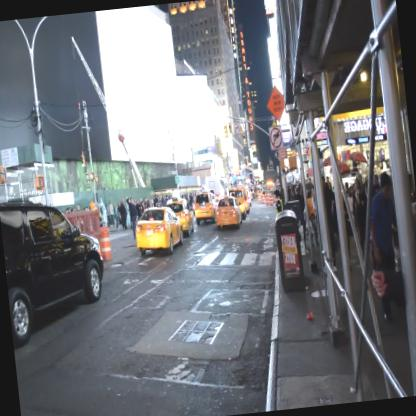car: (0, 192, 111, 349), (132, 204, 184, 258), (166, 198, 194, 238), (214, 196, 243, 232), (192, 191, 219, 226)
